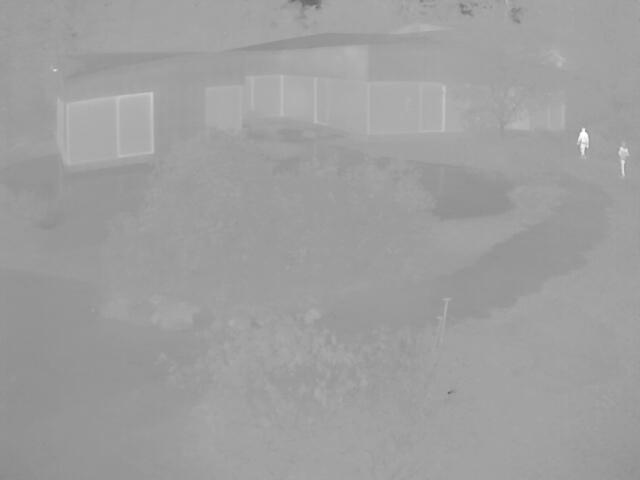person: (617, 141, 628, 178), (576, 128, 589, 158)
